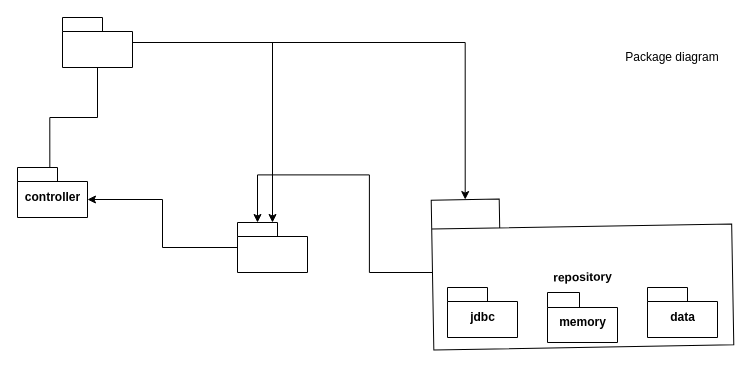
The diagram is 752 pixels wide and 368 high, and some of its shapes have lost their labels. The shapes that lost their labels are listed below. From the top down, each one's centre as x and y in pixels, then its label:
[97,42]: entity
[272,247]: service
